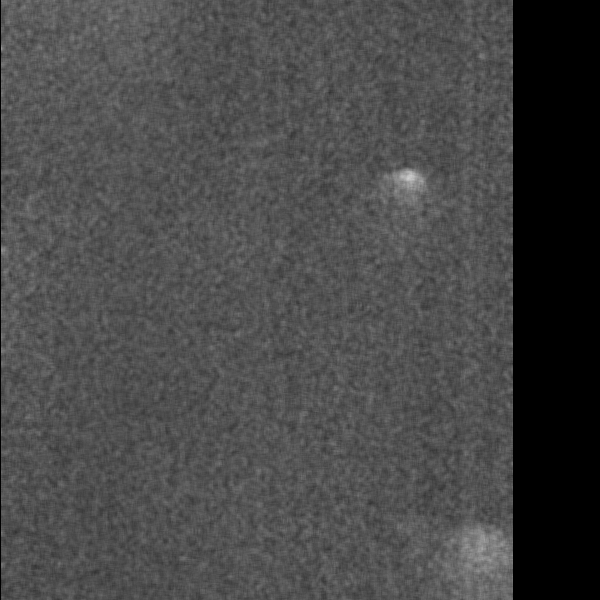spark: (458, 519, 501, 600), (387, 161, 430, 223)
